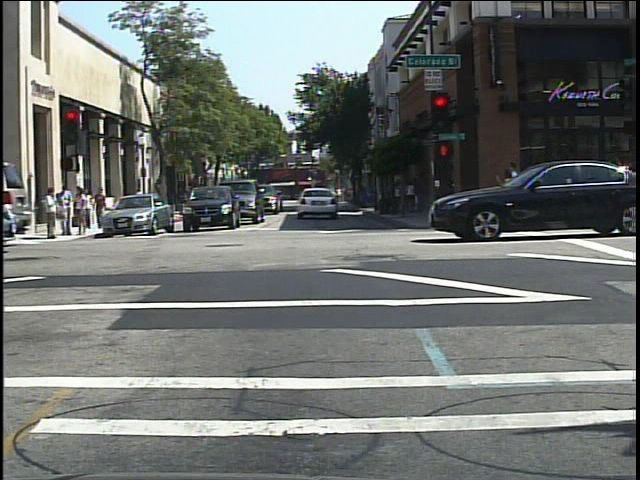person: (180, 181, 197, 221), (84, 185, 96, 229), (132, 185, 147, 217)
